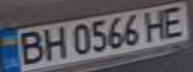0: (66, 20, 93, 56)
5: (87, 17, 112, 52)
6: (121, 11, 148, 46), (106, 15, 127, 49)
B: (9, 28, 48, 65)
E: (157, 2, 193, 38)
H: (36, 25, 69, 61), (139, 7, 172, 42)
